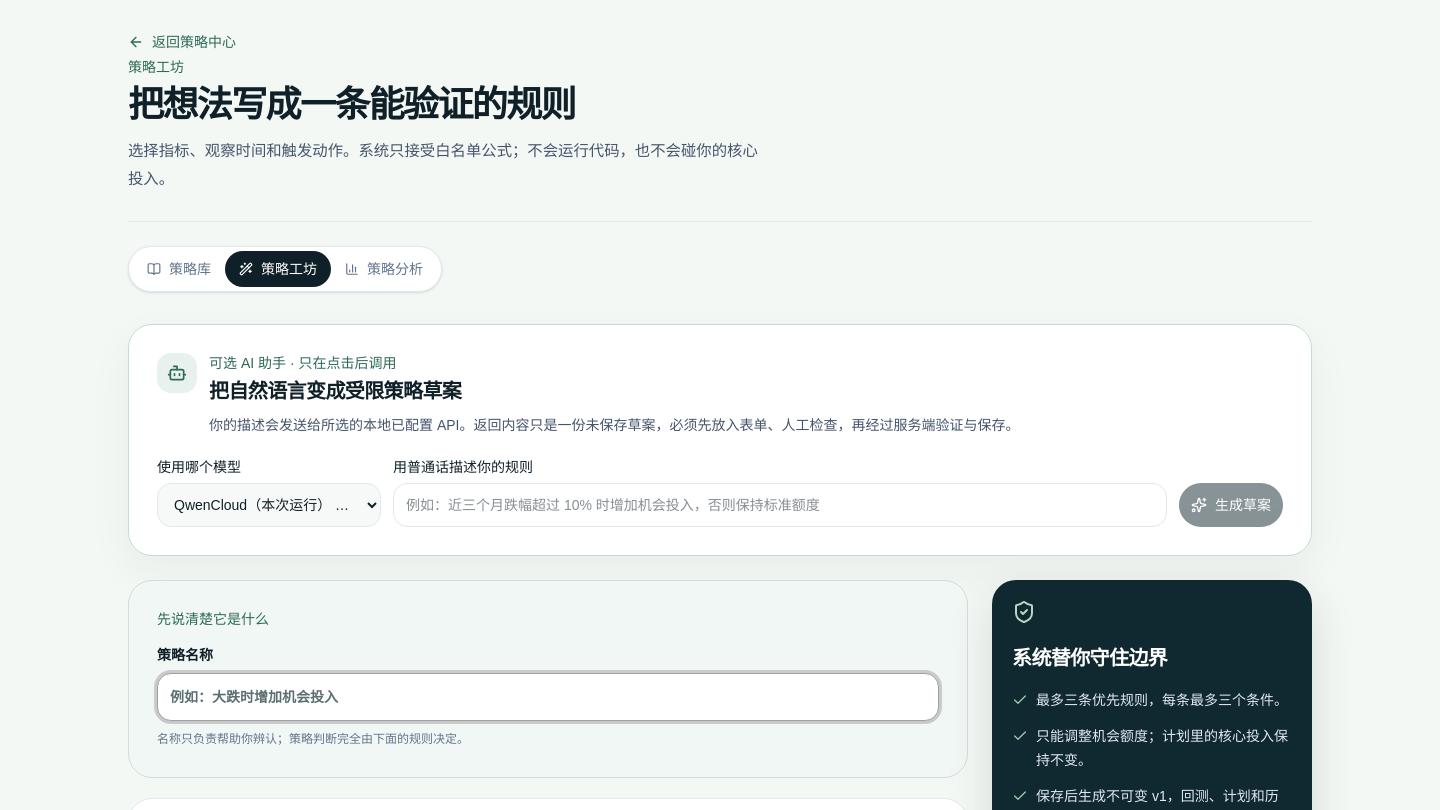
personal strategy builder page › distinguishes a provider reply that misses the workshop form contract
The image size is (1440, 810).
Type "三个月跌幅超过 20% 时增加投入" into the field named "策略自然语言描述" at coordinates (780, 505), box 393,483 -> 1167,527
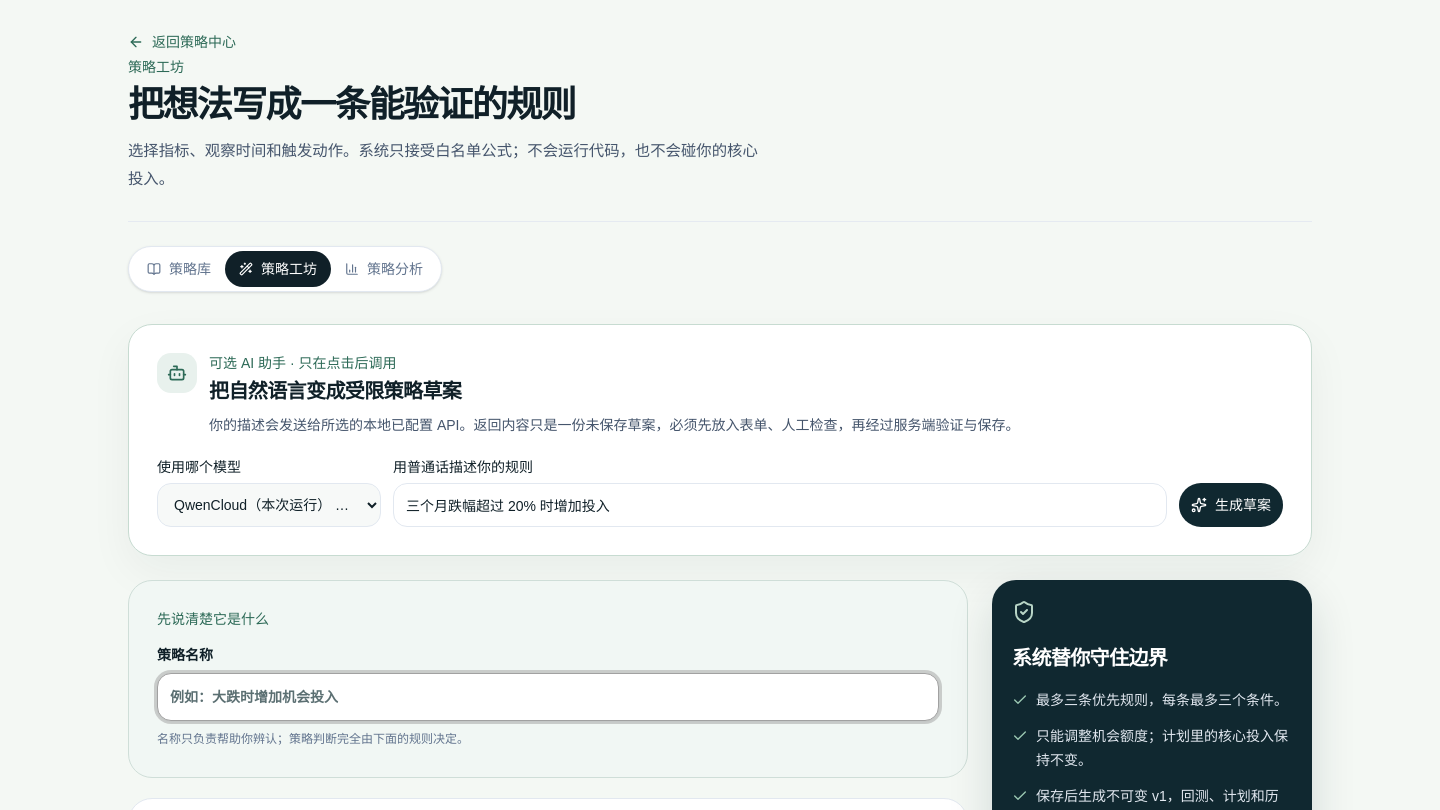
Click the button "生成草案" at coordinates (1231, 505), box 1179,483 -> 1283,527
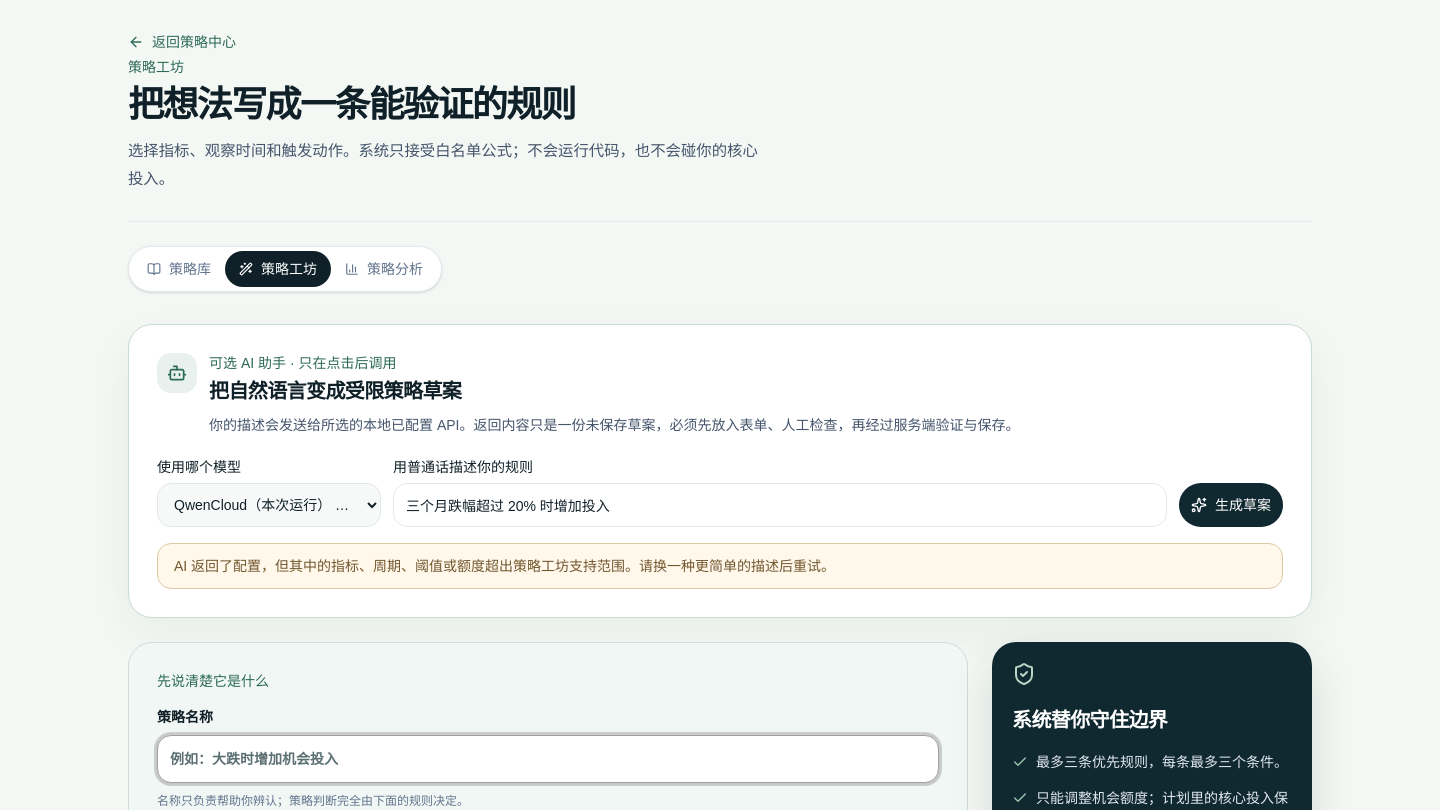
Check: the text "AI 返回了配置，但其中的指标、周期、阈值或额度超出策略工坊支持范围。请换一种更简单的描述后重试。" is shown, box 157,543 -> 1283,589
